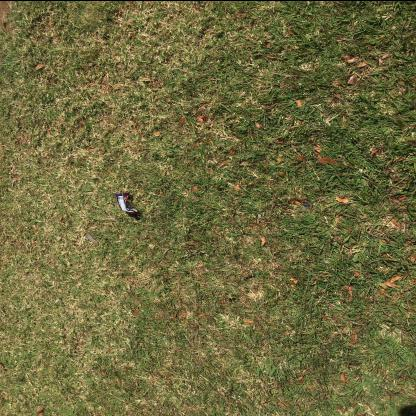plastik: (115, 192, 140, 214)
